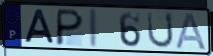6: (118, 11, 143, 49)
A: (174, 12, 208, 52), (22, 8, 57, 45)
I: (88, 7, 99, 50)
P: (54, 8, 85, 47)
U: (146, 11, 175, 50)
